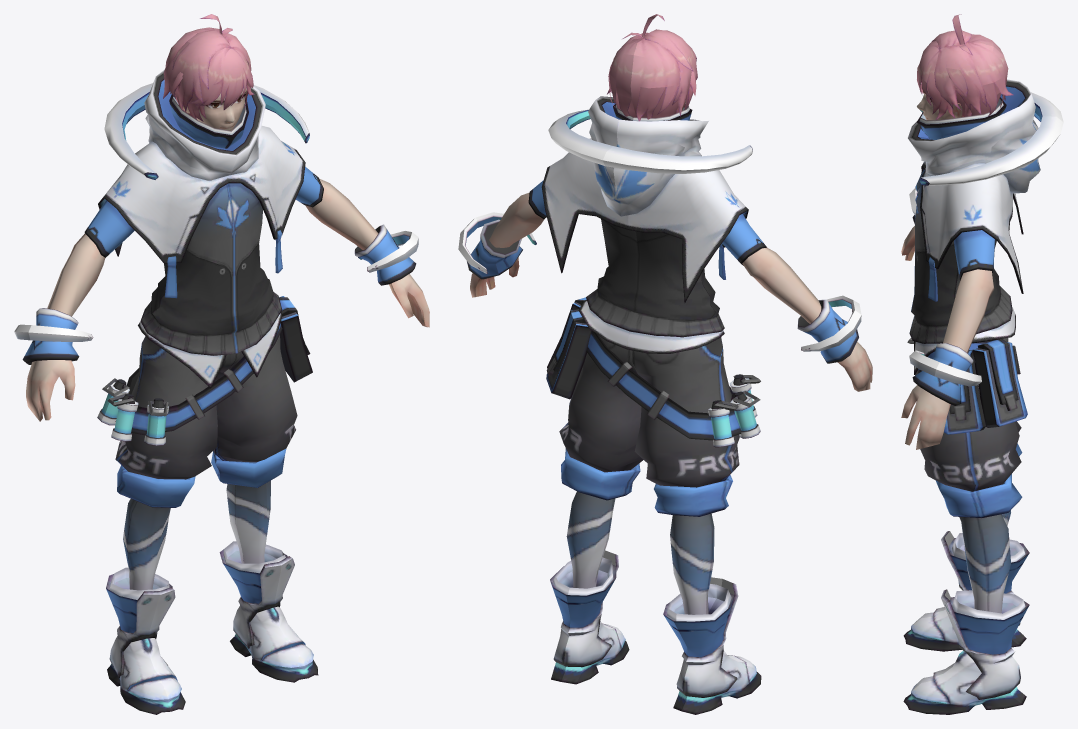
Rendered from nanzhuang1.FBX.
The picture shows the model from 3 angles, left to right: view 1: azimuth 30°, elevation 25°; view 2: azimuth 150°, elevation 25°; view 3: azimuth 270°, elevation 25°; orthographic projection.
Visible parts, largest first — view 1: nan_bds_01; view 2: nan_bds_01; view 3: nan_bds_01.
Part boxes in pixels (x1=…): nan_bds_01: x1=14, y1=14, x2=429, y2=714; nan_bds_01: x1=458, y1=14, x2=872, y2=714; nan_bds_01: x1=901, y1=14, x2=1063, y2=714.
Size of the model in its own units: 9.12 by 14.65 by 3.29.
Materials: 1 (1 with a texture image).
